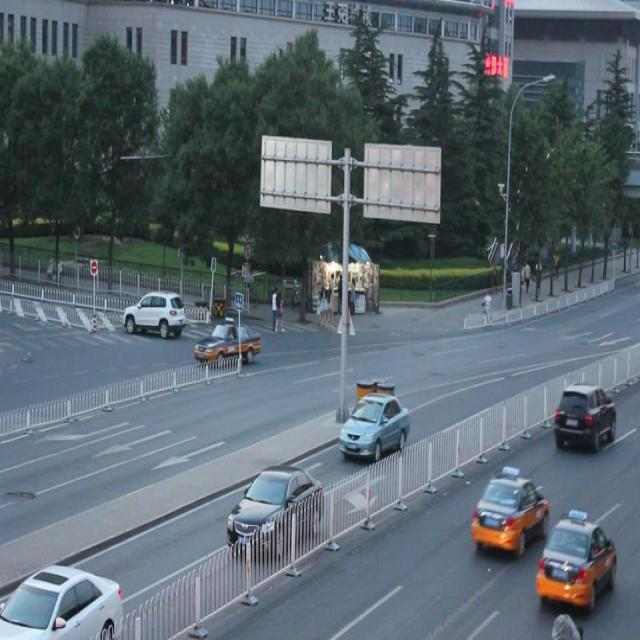car: (1, 559, 122, 640), (226, 466, 323, 556), (535, 516, 618, 608), (470, 470, 549, 554), (338, 391, 411, 462), (552, 386, 617, 450), (195, 319, 261, 368), (124, 290, 183, 338)
